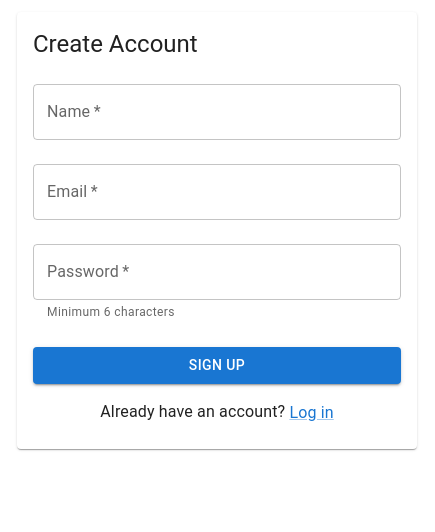
SignupForm › shows error message on signup failure
The width and height of the screenshot is (435, 532).
Check: the button "Sign Up" is shown, box [33,347,401,384]
Type "Test User" into the field labelled "Name *".
click(217, 112); type("Test User")  # box [33,84,401,140]
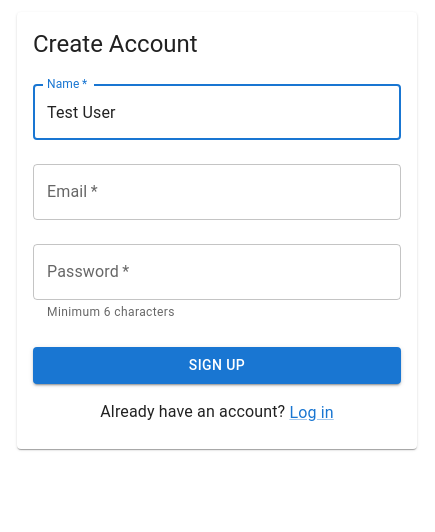
Type "existing@example.com" into the field labelled "Email *".
click(217, 192); type("existing@example.com")  # box [33,164,401,220]
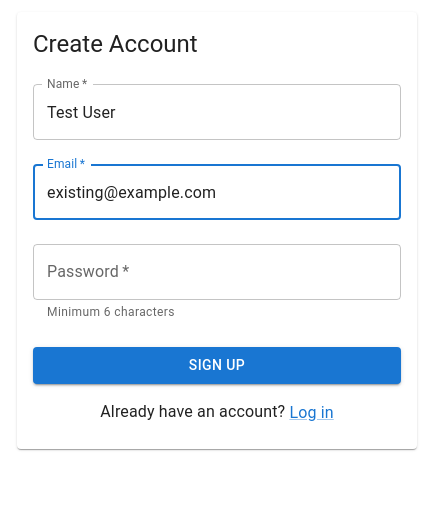
Type "password123" into the password field labelled "Password *".
click(217, 272); type("password123")  # box [33,244,401,300]
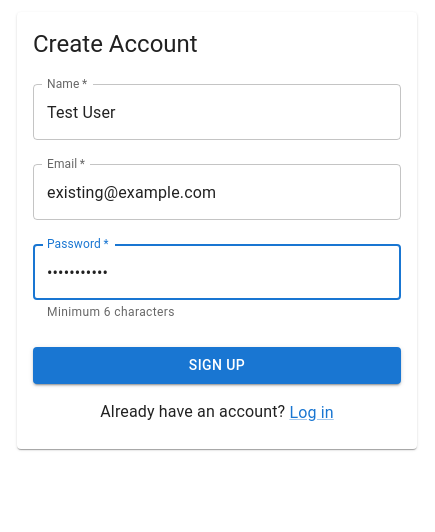
Click the button "Sign Up".
click(217, 366)  # box [33,347,401,384]
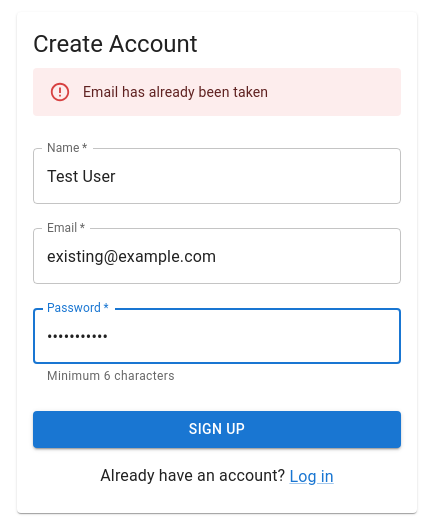
Check: the text "Email has already been taken" is shown, box [83,84,268,100]
